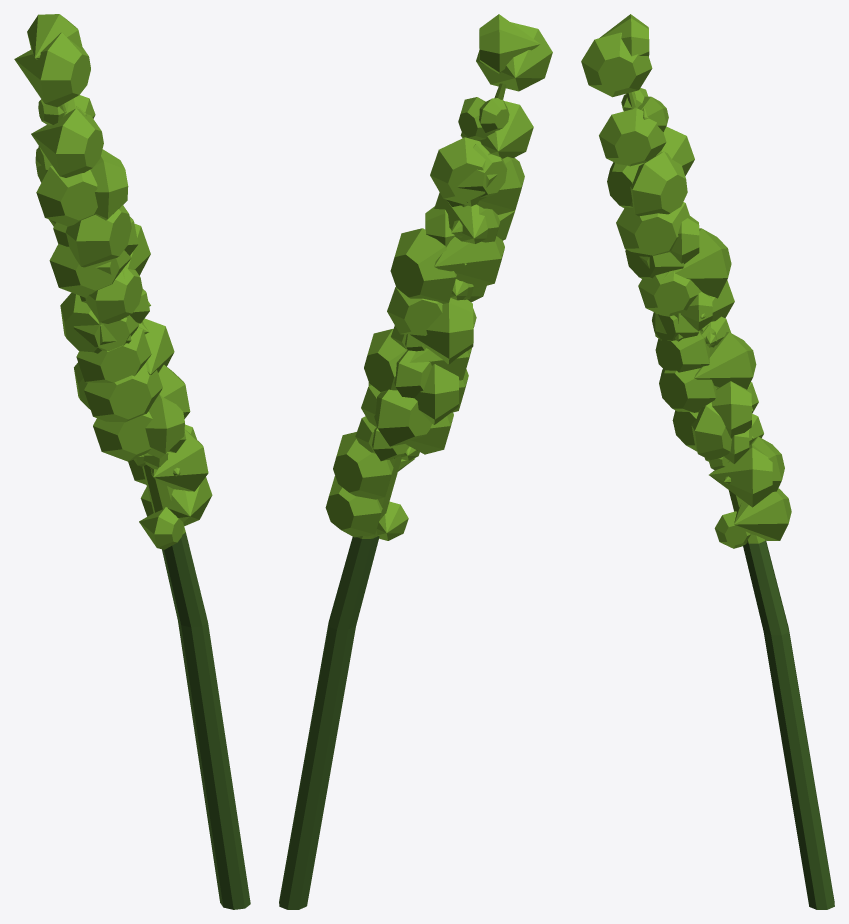
3 views of the same model, side by side, from view 1: azimuth 30°, elevation 25°; view 2: azimuth 150°, elevation 25°; view 3: azimuth 330°, elevation 25° (orthographic). The views are drawn at different scales.
Parts seen in each view (by area): view 1: g9-green; view 2: g9-green; view 3: g9-green.
Part boxes in pixels (x1,y1,x2,y2): g9-green: (14,14,250,909); g9-green: (279,14,552,909); g9-green: (581,14,834,909).
Bounding box in the file's own units: 114 × 422 × 49.
